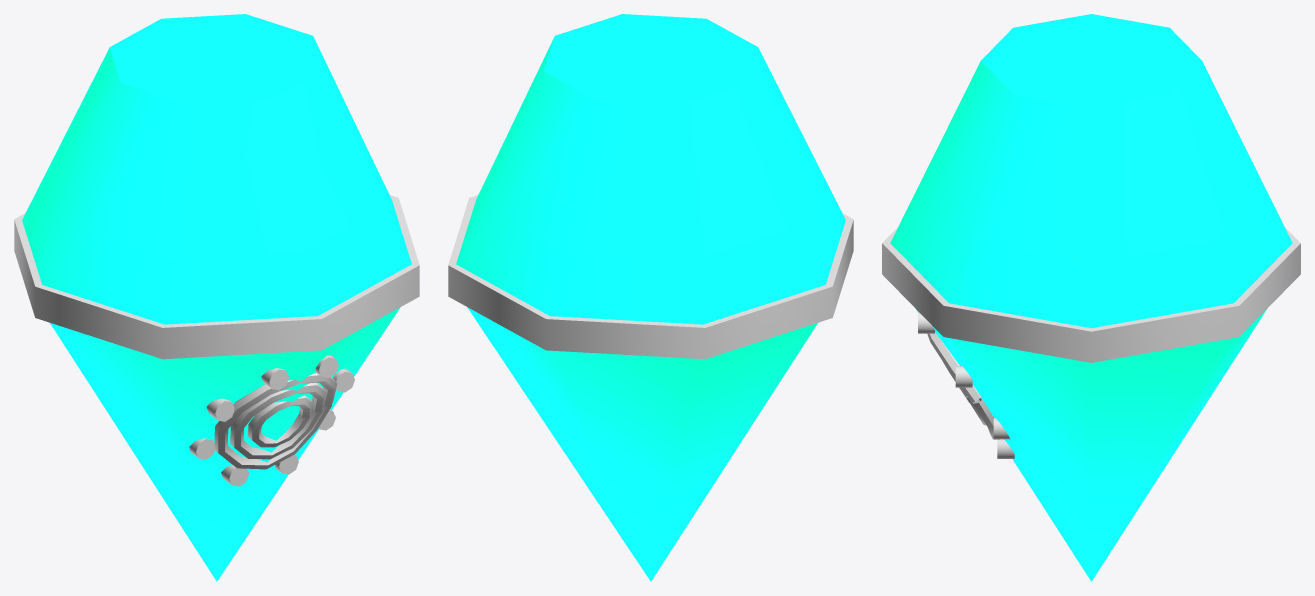
Rendered from coin.glb.
The picture shows the model from 3 angles, left to right: view 1: azimuth 30°, elevation 25°; view 2: azimuth 150°, elevation 25°; view 3: azimuth 270°, elevation 25°; orthographic projection.
Visible parts, largest first — view 1: root_mesh; view 2: root_mesh; view 3: root_mesh.
Boxes of the visible parts, x1,y1,x2,y2 form: root_mesh: [14, 14, 419, 581]; root_mesh: [448, 14, 853, 581]; root_mesh: [882, 14, 1300, 581].
Size of the model in its own units: 0.728 by 1 by 0.728.
